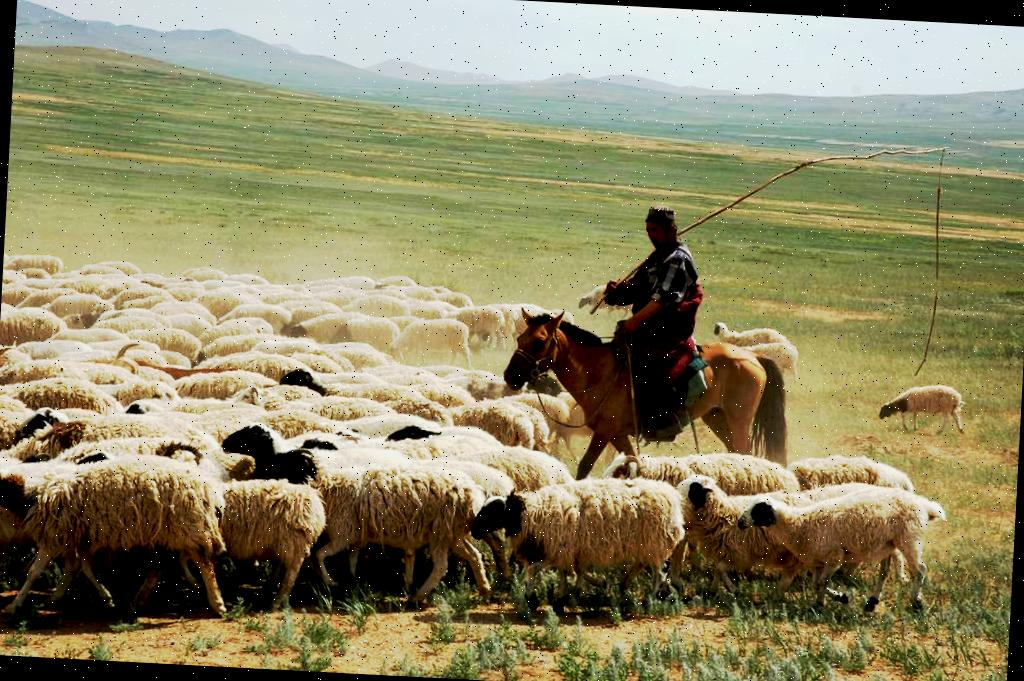Sheep: (0, 448, 239, 630), (257, 447, 497, 609), (461, 471, 686, 627), (731, 484, 955, 622), (215, 421, 428, 560), (136, 452, 320, 610), (666, 470, 864, 612), (602, 440, 802, 536), (12, 403, 212, 464), (382, 420, 526, 476), (436, 447, 580, 502), (784, 451, 916, 510), (432, 392, 554, 454), (286, 392, 414, 446), (277, 364, 412, 414), (873, 381, 975, 438), (8, 371, 130, 418), (380, 314, 478, 371), (85, 372, 183, 421), (1, 353, 116, 392), (1, 303, 78, 359), (354, 383, 458, 422), (438, 301, 508, 358), (215, 348, 317, 384), (182, 365, 280, 401), (706, 316, 796, 355), (118, 324, 202, 364), (284, 308, 354, 351), (199, 330, 281, 365), (742, 339, 800, 386), (405, 377, 480, 410), (246, 332, 322, 359), (195, 286, 254, 318), (349, 291, 413, 320), (372, 310, 430, 340), (48, 272, 114, 298), (16, 286, 74, 313), (6, 252, 66, 276), (401, 300, 453, 322), (77, 260, 140, 278), (427, 288, 476, 311), (1, 282, 40, 308), (179, 265, 229, 284), (334, 274, 380, 290), (374, 275, 420, 290)
